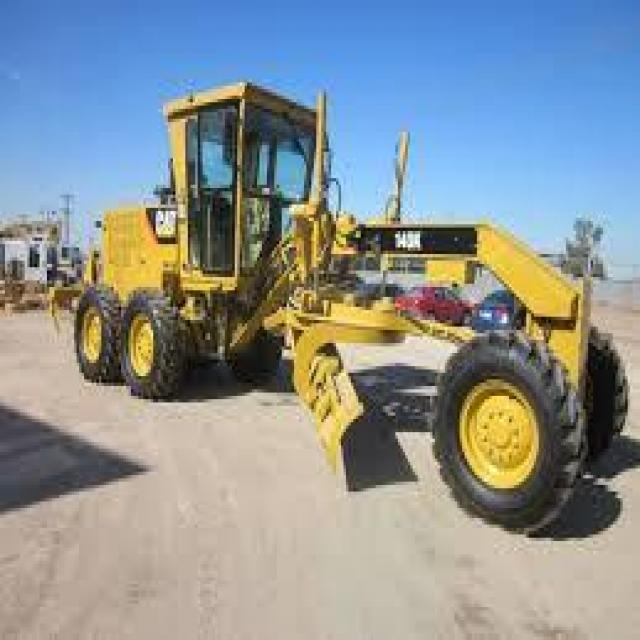Grader: (40, 66, 638, 538)
